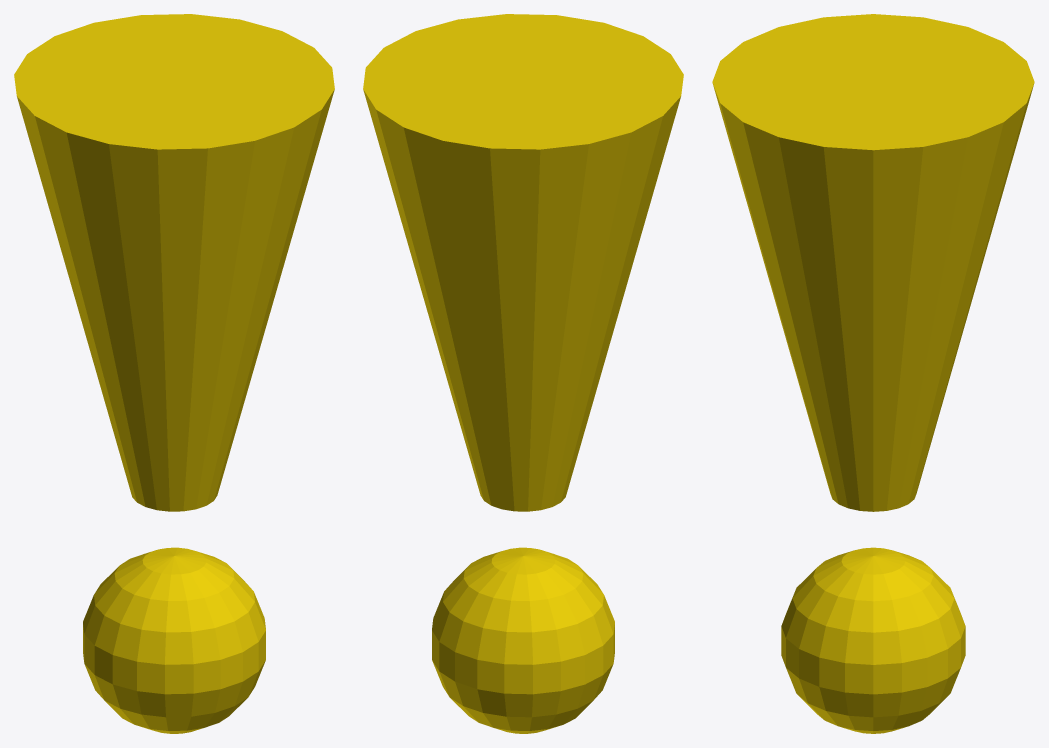
3 renders of one model, left to right at view 1: azimuth 30°, elevation 25°; view 2: azimuth 150°, elevation 25°; view 3: azimuth 270°, elevation 25°, orthographic.
Parts seen in each view (by area): view 1: FishWarning; view 2: FishWarning; view 3: FishWarning.
Boxes of the visible parts, left/top/right/bottom form: FishWarning: left=14, top=14, right=334, bottom=733; FishWarning: left=363, top=14, right=683, bottom=733; FishWarning: left=712, top=14, right=1034, bottom=733.
Size of the model in its own units: 3.45 by 7.59 by 3.45.
